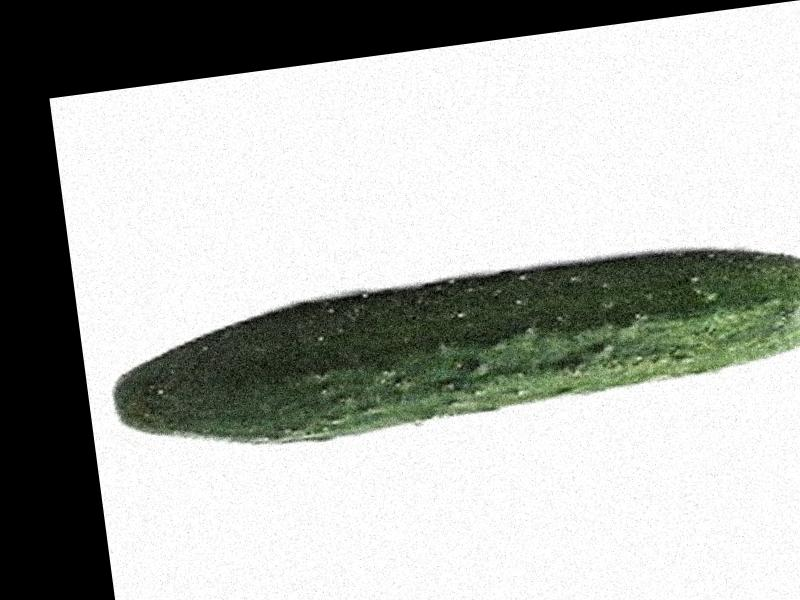Cucumber: (103, 228, 800, 464)
